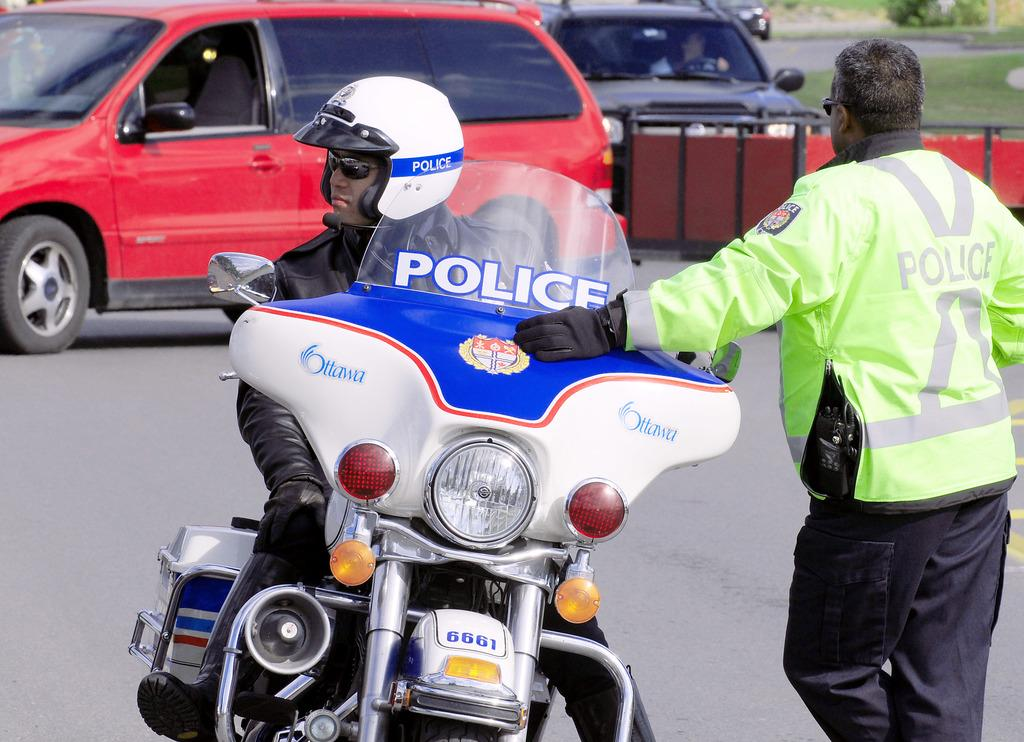helmet: (292, 75, 464, 226)
nohelmet: (820, 36, 928, 173)
